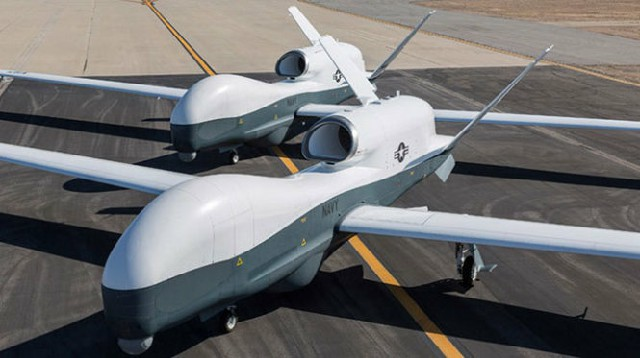maybay_khongnguoilai: (10, 42, 637, 345), (7, 16, 640, 148)
